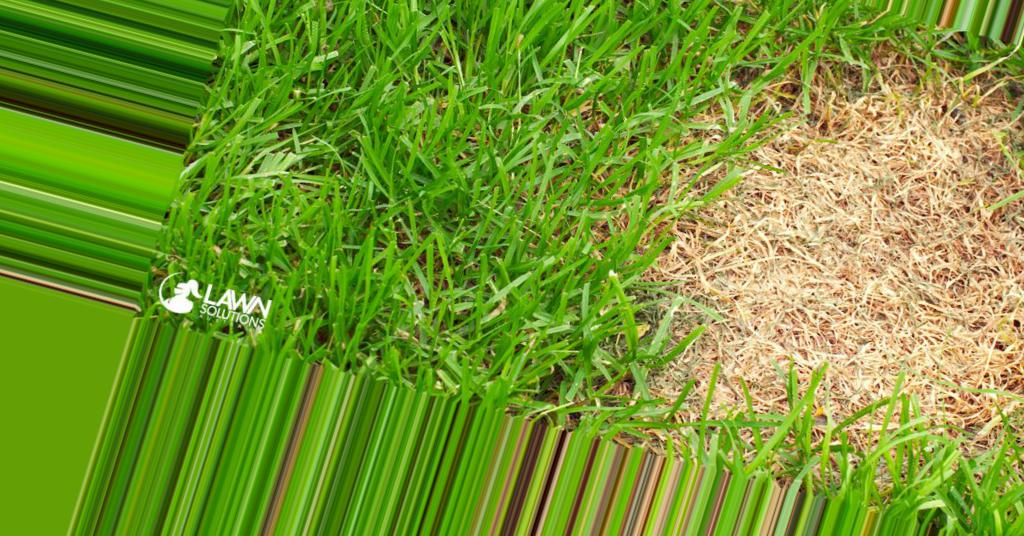patch: (802, 90, 1007, 435), (691, 211, 857, 387)
